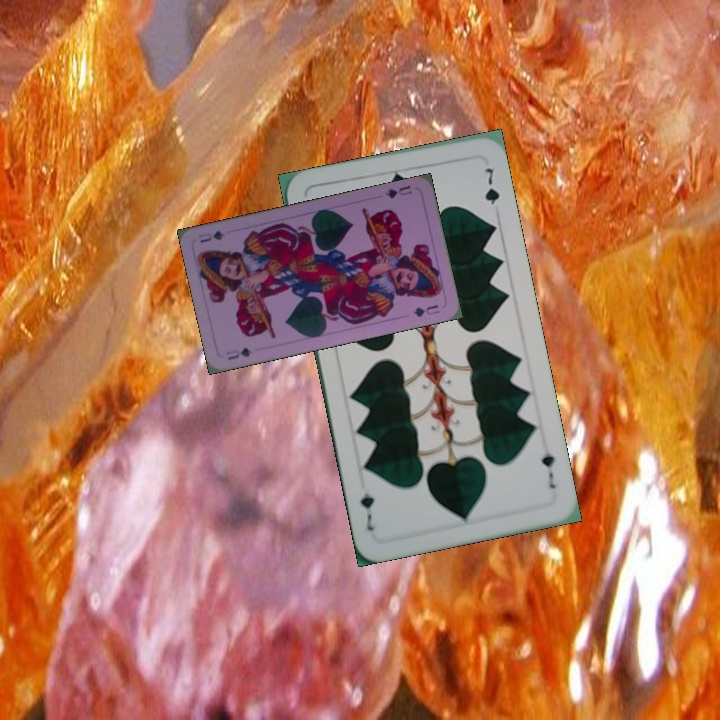G7: (537, 448, 558, 491)
GU: (381, 181, 414, 201), (222, 343, 255, 363)
